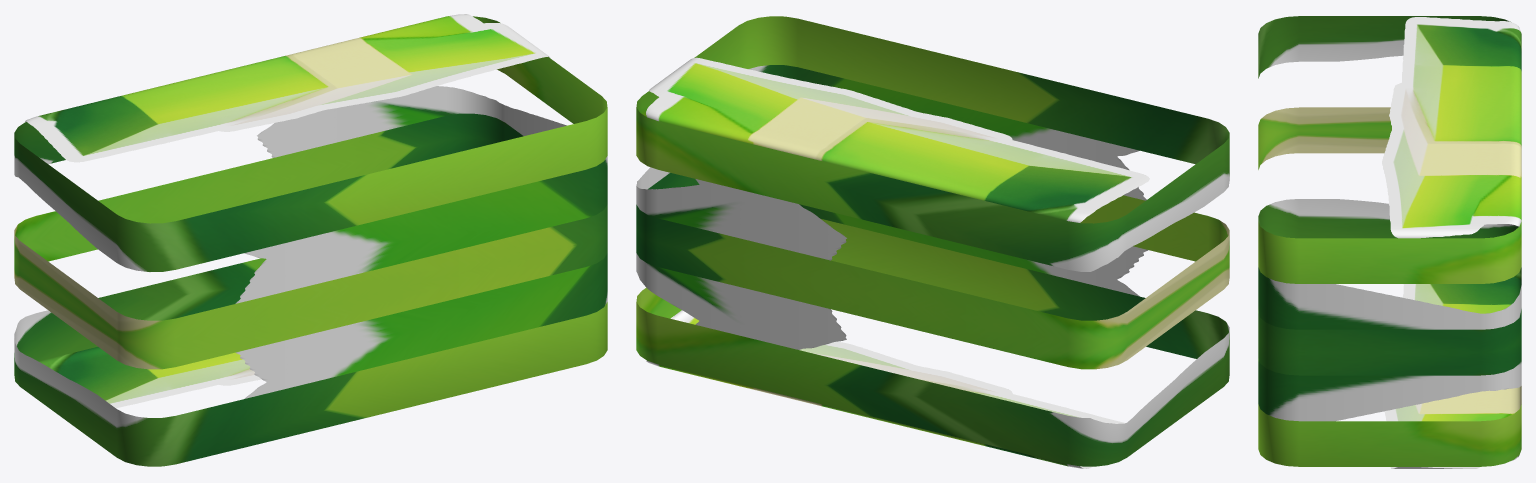
Rendered from Money.fbx.
3 renders of one model, left to right at view 1: azimuth 30°, elevation 25°; view 2: azimuth 150°, elevation 25°; view 3: azimuth 270°, elevation 25°, orthographic. The views are drawn at different scales.
Parts seen in each view (by area): view 1: Money; view 2: Money; view 3: Money.
Boxes of the visible parts, x1,y1,x2,y2 form: Money: (14,14,607,466); Money: (636,16,1229,468); Money: (1258,16,1521,468).
Size of the model in its own units: 40 by 20 by 20.
